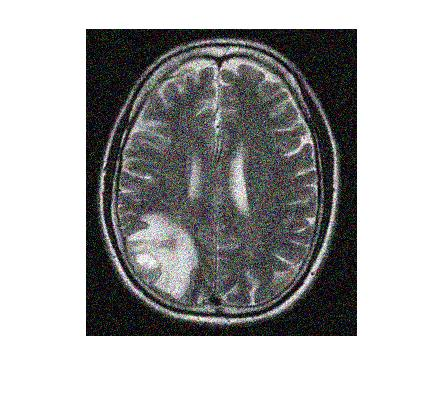Brain_Cancer: (116, 212, 213, 303)
